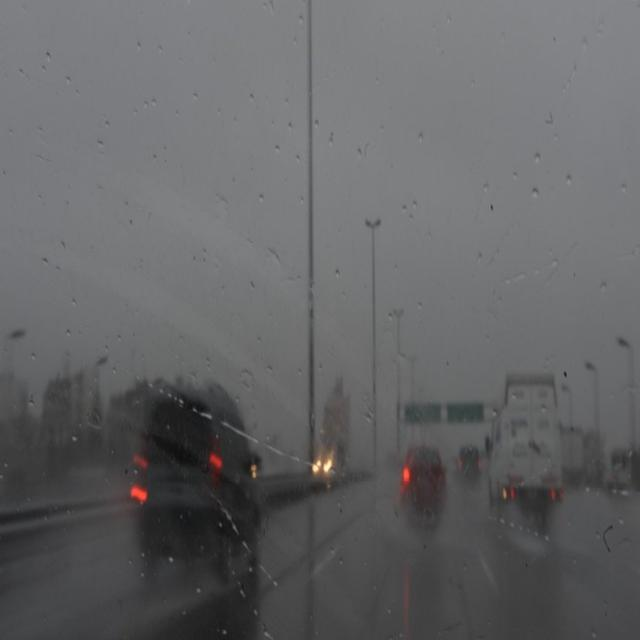car: (130, 384, 261, 590), (486, 408, 562, 523), (399, 442, 447, 518), (455, 440, 482, 482)
